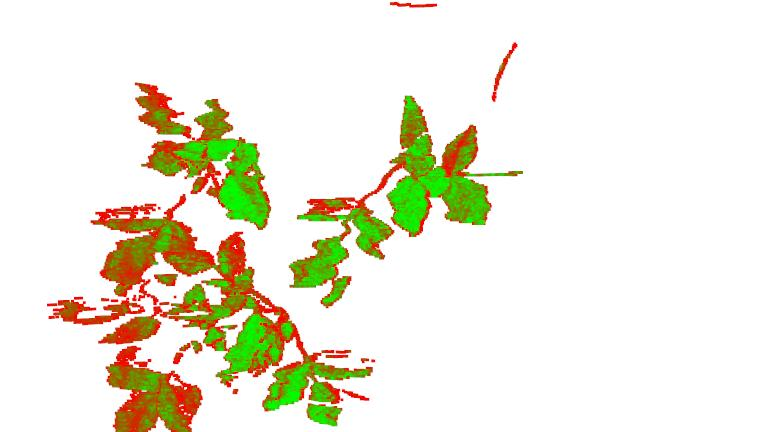mungbean: (289, 96, 524, 311), (81, 70, 271, 292), (184, 233, 375, 427), (46, 296, 206, 432)
